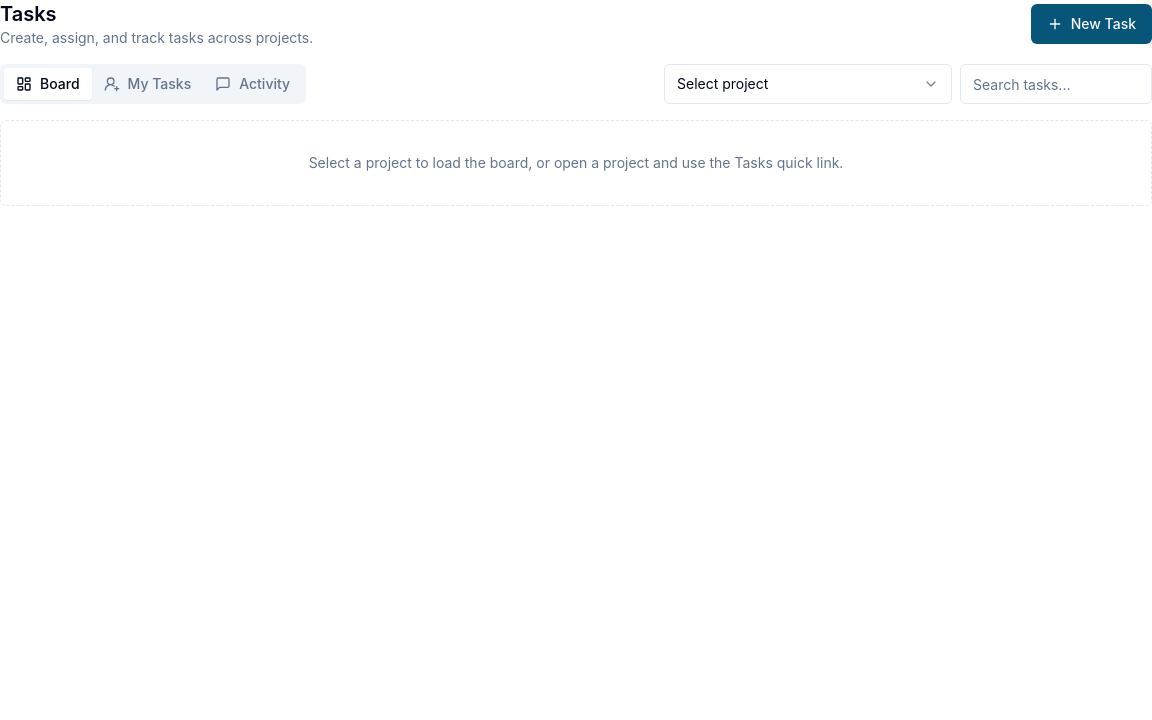
Test: TasksPage › opens Create Task dialog
This screenshot has width=1152, height=720.
Click the button "New Task" at [1091, 24], box [1031, 4, 1151, 44]
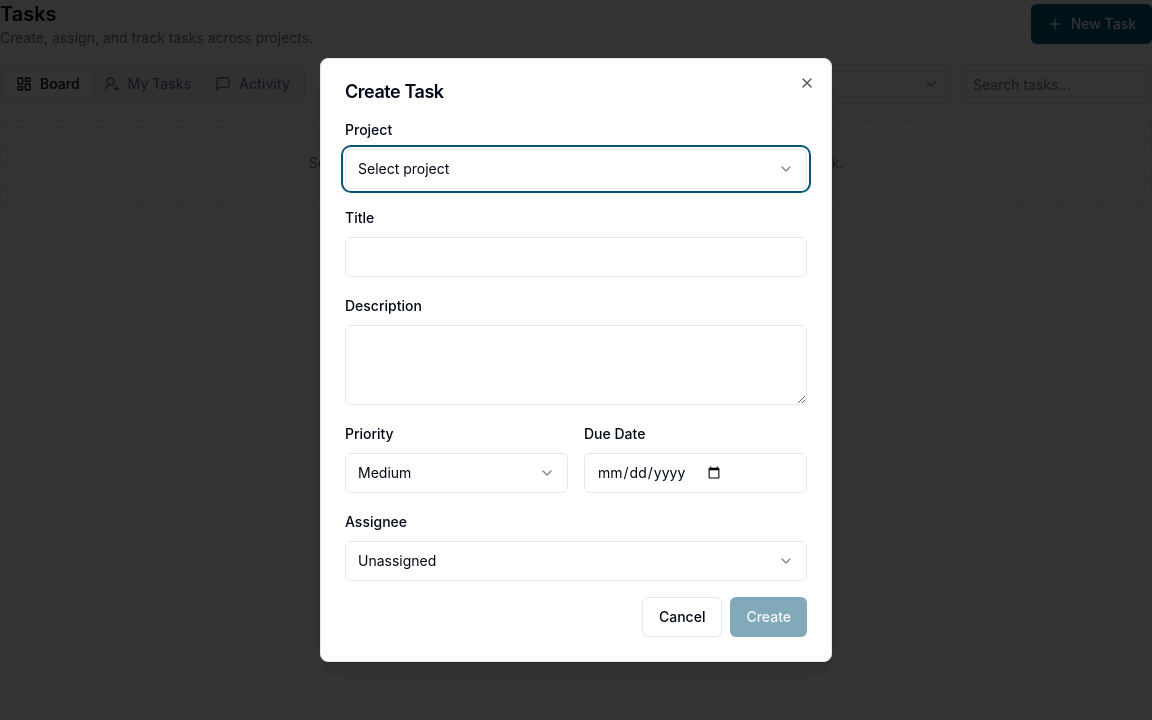
Expected: the heading "Create Task" is shown, [345, 81, 444, 102]
Expected: the text "Title" is shown, [345, 209, 374, 226]
Expected: the text "Description" is shown, [345, 297, 422, 314]
